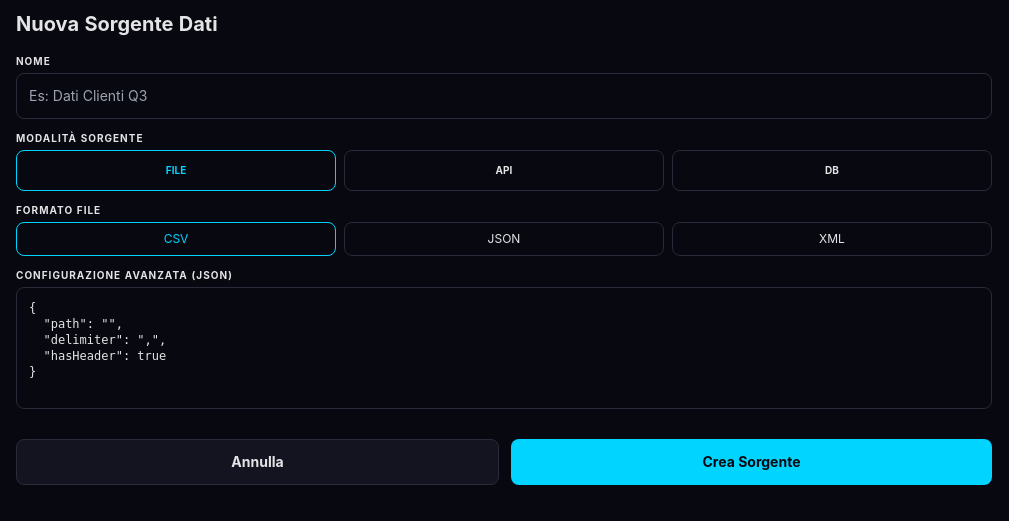
DataSourceForm › shows validation error on name field
This screenshot has width=1009, height=521.
Click the button "Crea Sorgente": (752, 462) x1=511 y1=439 x2=992 y2=485
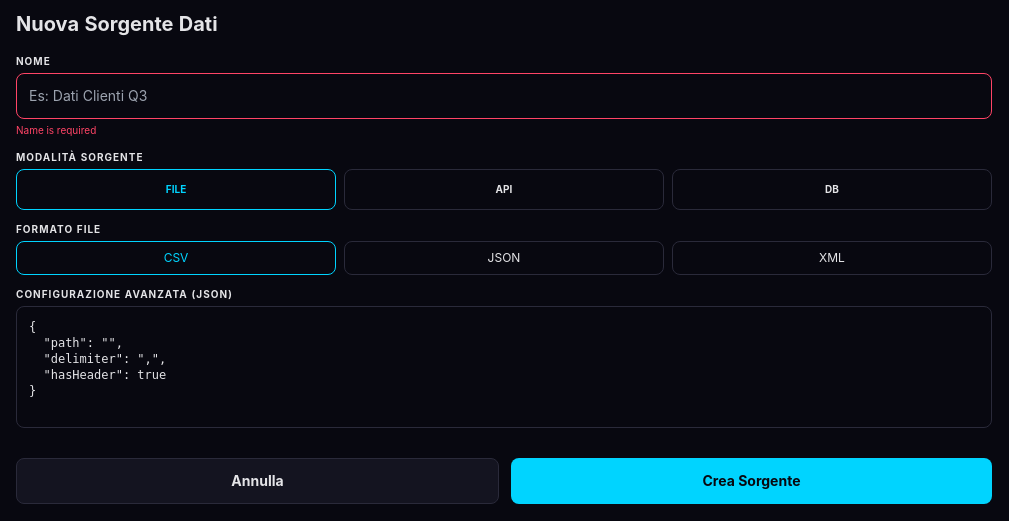
Now the text "Name is required" is shown, box x1=16 y1=124 x2=96 y2=136
